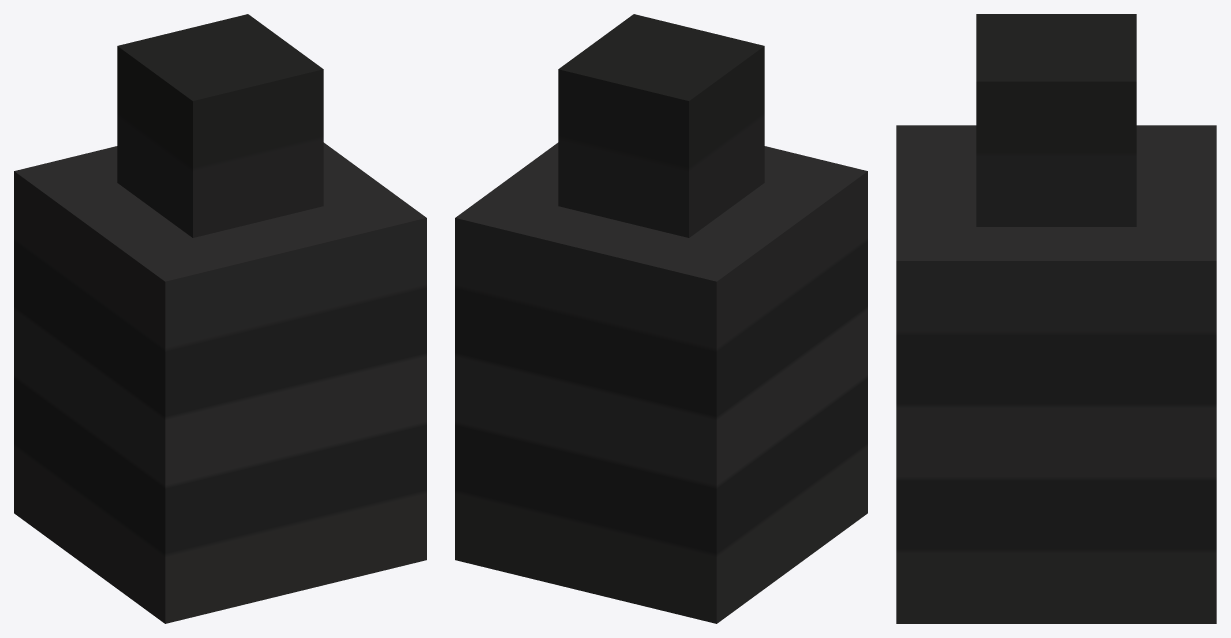
The model's file is Hip056.fbx.
The picture shows the model from 3 angles, left to right: view 1: azimuth 30°, elevation 25°; view 2: azimuth 150°, elevation 25°; view 3: azimuth 270°, elevation 25°; orthographic projection. The views are drawn at different scales.
Parts seen in each view (by area): view 1: Hip056; view 2: Hip056; view 3: Hip056.
Boxes of the visible parts, x1,y1,x2,y2 form: Hip056: (14,14,426,623); Hip056: (455,14,867,623); Hip056: (896,14,1216,623).
Size of the model in its own units: 4 by 7 by 4.
